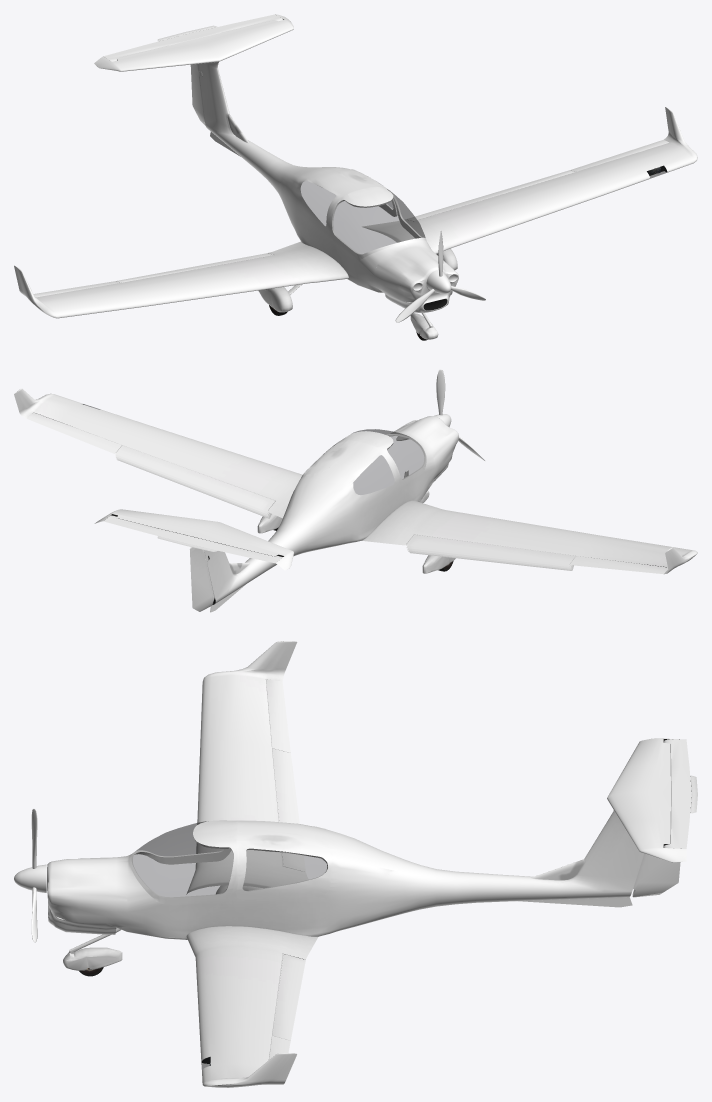
File: blank.gltf
3 views of the same model, one above another, from view 1: azimuth 30°, elevation 25°; view 2: azimuth 150°, elevation 25°; view 3: azimuth 270°, elevation 25° (orthographic). The views are drawn at different scales.
Visible parts, largest first — view 1: Exterior, Pose_flaps_0, XLive_2, Spin_0, XLive_4; view 2: Exterior, Pose_flaps_0, XLive_2, XLive_4, Pose_flaps_1, XLive_0, Pose_flaps_2, XLive_1, Pose_flaps_3, Pose_flaps_4, Spin_0; view 3: Exterior, Pose_flaps_0, XLive_2, XLive_4, XLive_1.
Part boxes in pixels (box(x1,y1,x2,y2)): Exterior: box(14, 14, 697, 340); Pose_flaps_0: box(115, 170, 575, 282); XLive_2: box(104, 14, 282, 61); Spin_0: box(395, 230, 485, 322); XLive_4: box(190, 64, 205, 125); Exterior: box(14, 388, 697, 612); Pose_flaps_0: box(115, 445, 575, 564); XLive_2: box(103, 515, 282, 563); XLive_4: box(189, 547, 214, 611); Pose_flaps_1: box(115, 454, 570, 566); XLive_0: box(27, 412, 121, 453); Pose_flaps_2: box(116, 457, 571, 568); XLive_1: box(569, 556, 667, 574); Pose_flaps_3: box(116, 458, 572, 569); Pose_flaps_4: box(117, 460, 573, 570); Spin_0: box(396, 369, 484, 460); Exterior: box(14, 641, 686, 1087); Pose_flaps_0: box(272, 748, 305, 1040); XLive_2: box(664, 739, 691, 848); XLive_4: box(632, 853, 680, 897); XLive_1: box(265, 679, 290, 752).
Size of the model in its own units: 11.53 by 2.35 by 8.07.
4 materials, 2 textured.
